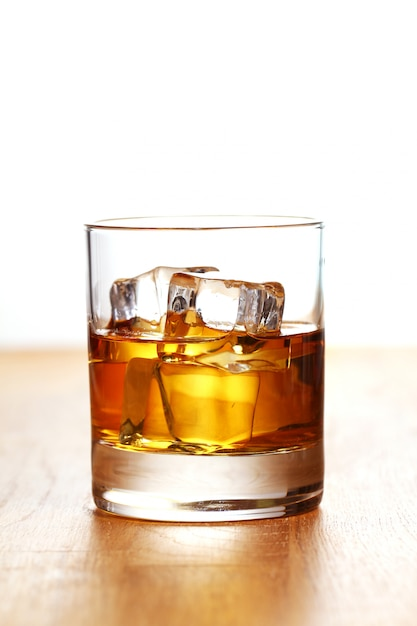alcohol: (83, 208, 326, 525)
